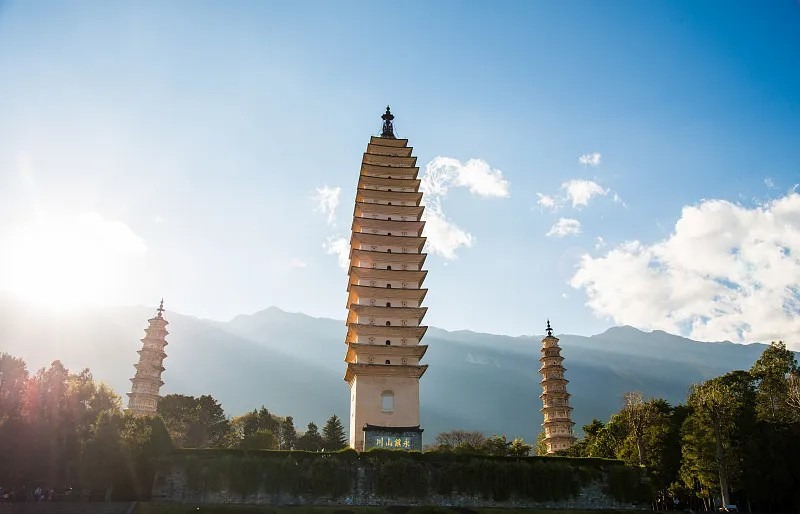ThreePagoda: (344, 104, 428, 450)
